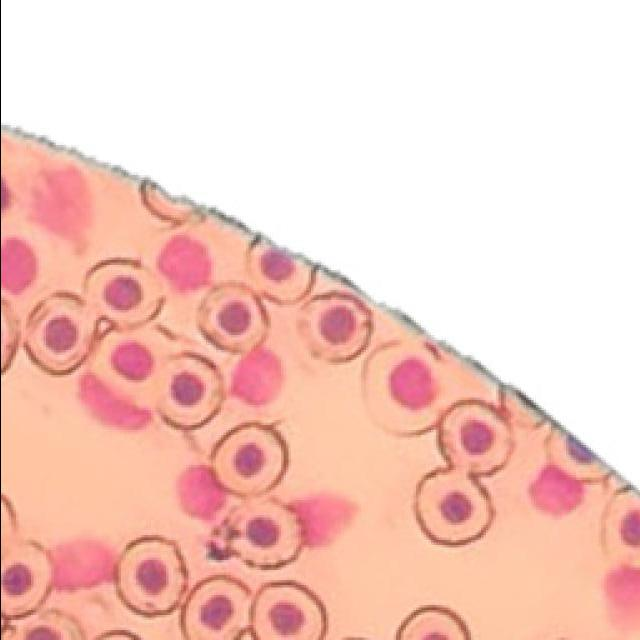RBC: (360, 340, 448, 439), (88, 323, 176, 408), (22, 290, 101, 376), (413, 468, 494, 547), (221, 495, 305, 570), (436, 399, 515, 477), (80, 258, 165, 330), (210, 424, 286, 496), (115, 538, 185, 616), (178, 573, 252, 640), (299, 292, 370, 361), (158, 354, 221, 430), (198, 284, 266, 352), (250, 582, 325, 640), (0, 539, 52, 622), (246, 240, 313, 302), (600, 487, 640, 566), (395, 605, 470, 640), (18, 608, 86, 640)
WBC: (78, 374, 150, 430), (48, 540, 113, 590), (156, 235, 210, 292), (230, 349, 281, 405), (528, 465, 582, 515), (176, 466, 224, 520), (0, 239, 35, 294)
